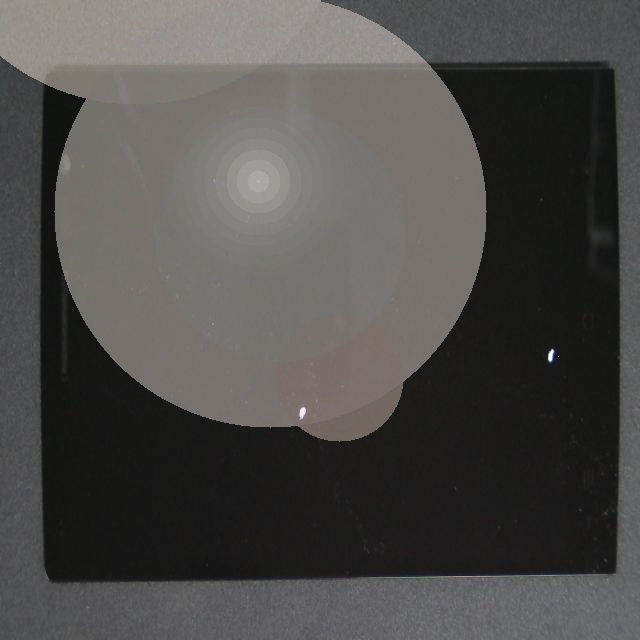stain: (269, 197, 640, 591), (167, 161, 450, 590)
